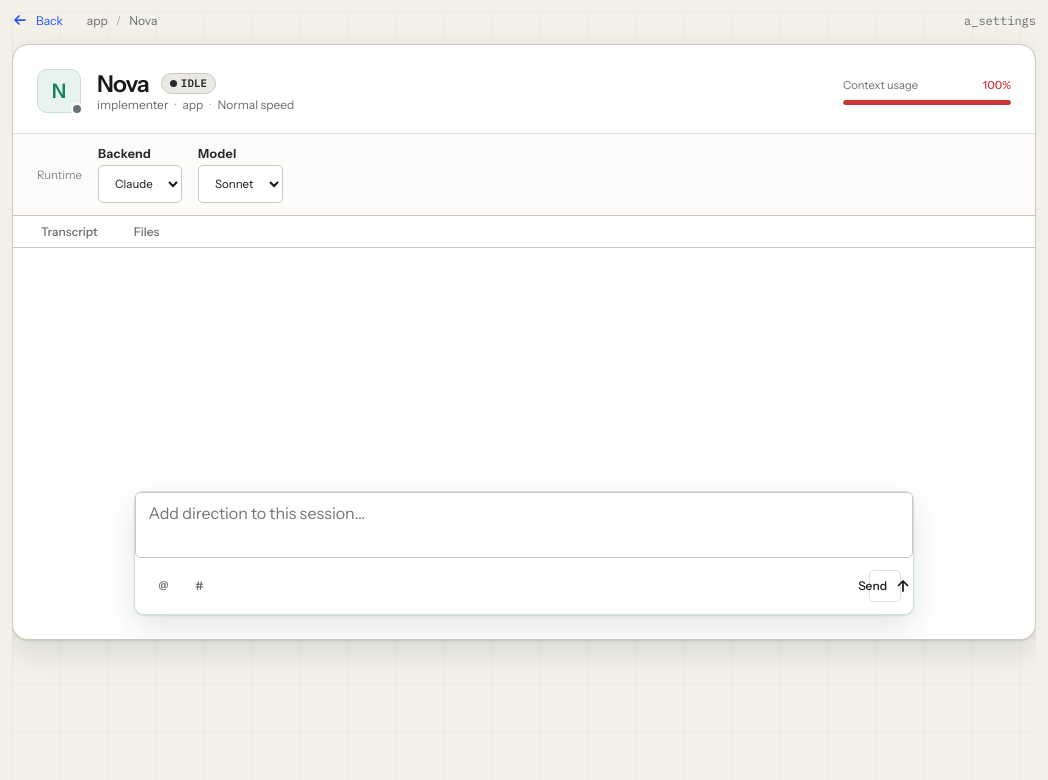
Test: omits empty session settings and shows them for a capable staged model
This screenshot has width=1048, height=780.
Expected: the element "Runtime" is shown, [37,146,283,203]
Expected: the element "Session settings" is not shown
Select "Codex" in the dropdown labelled "Backend": (140, 184) [98,165,182,203]
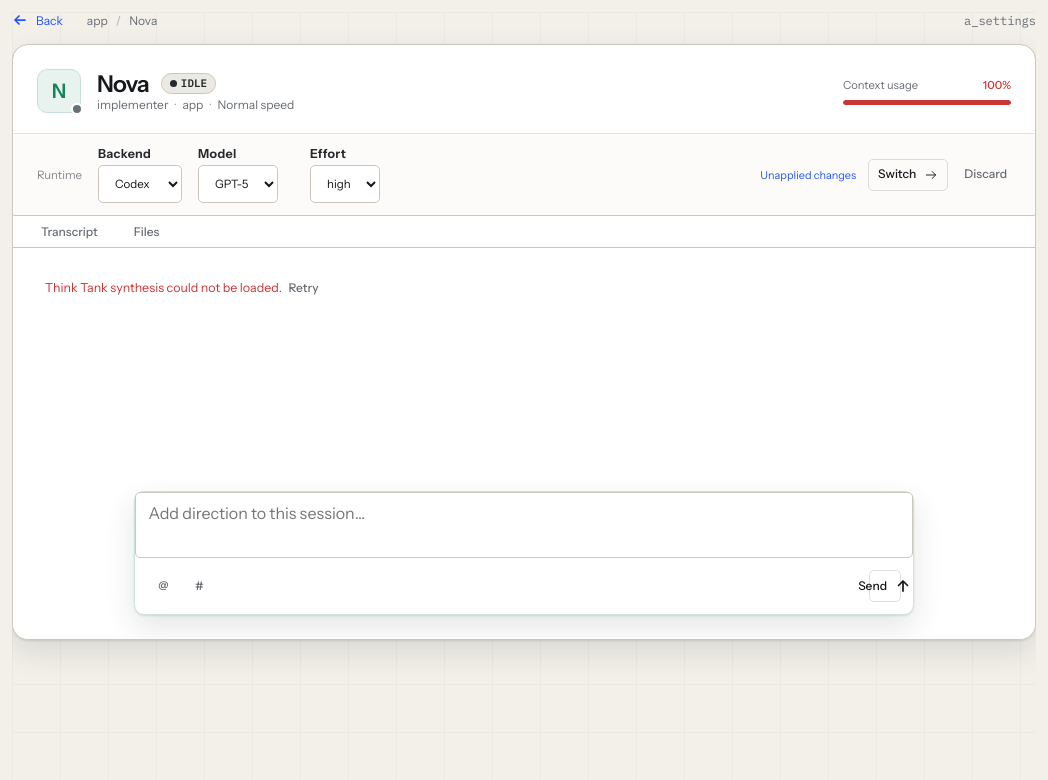
Expected: the element named "Session settings" is shown, [294,146,380,203]
Expected: the dropdown labelled "Effort" is shown, [310,165,380,203]
